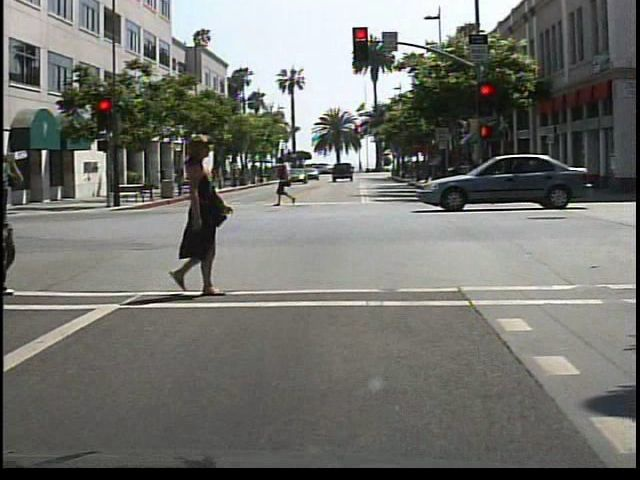person: (170, 134, 257, 299), (1, 143, 27, 301), (273, 158, 302, 209), (172, 163, 190, 194)
